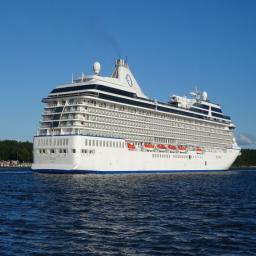cruises: (30, 57, 245, 177)
